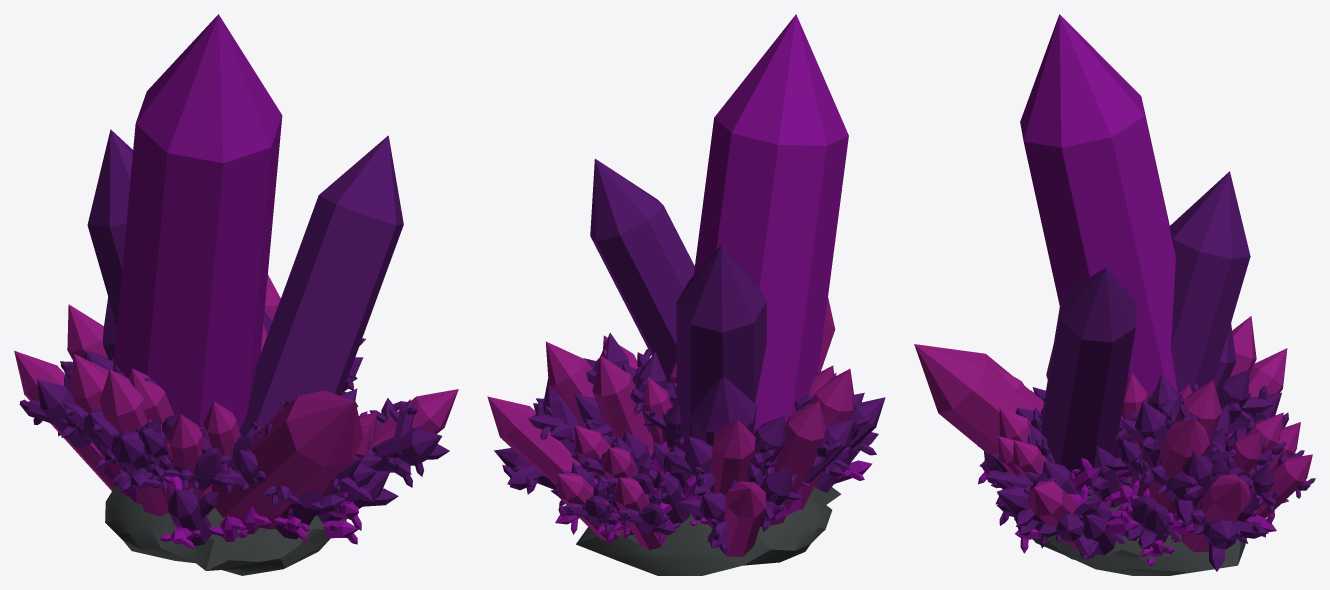
The model's file is Crystal4.fbx.
3 renders of one model, left to right at view 1: azimuth 30°, elevation 25°; view 2: azimuth 150°, elevation 25°; view 3: azimuth 270°, elevation 25°, orthographic. The views are drawn at different scales.
Parts seen in each view (by area): view 1: Cylinder.039, Cylinder.041, Cylinder.038, rock.009, rock.009|Cylinder.025|Dupli|53, rock.009|Cylinder.025|Dupli|45, Cylinder.037, rock.009|Cylinder.025|Dupli|18, rock.009|Cylinder.031|Dupli|39, rock.009|Cylinder.025|Dupli|52, rock.009|Cylinder.021|Dupli|19, rock.009|Cylinder.025|Dupli|38 (+12 smaller); view 2: Cylinder.039, Cylinder.041, Cylinder.037, rock.009, rock.009|Cylinder.025|Dupli|47, rock.009|Cylinder.025|Dupli|18, rock.009|Cylinder.025|Dupli|4, rock.009|Cylinder.025|Dupli|46, rock.009|Cylinder.025|Dupli|52, rock.009|Cylinder.025|Dupli|31, rock.009|Cylinder.025|Dupli|53, rock.009|Cylinder.031|Dupli|58 (+10 smaller); view 3: Cylinder.039, Cylinder.041, Cylinder.037, Cylinder.038, rock.009|Cylinder.025|Dupli|47, rock.009|Cylinder.025|Dupli|31, rock.009|Cylinder.025|Dupli|45, rock.009, rock.009|Cylinder.025|Dupli|4, rock.009|Cylinder.025|Dupli|46, rock.009|Cylinder.031|Dupli|9, rock.009|Cylinder.025|Dupli|18 (+17 smaller).
Boxes of the visible parts, left/top/right/bottom form: Cylinder.039: left=103, top=14, right=282, bottom=503; Cylinder.041: left=239, top=135, right=403, bottom=436; Cylinder.038: left=211, top=390, right=363, bottom=525; rock.009: left=105, top=485, right=346, bottom=575; rock.009|Cylinder.025|Dupli|53: left=91, top=369, right=168, bottom=516; rock.009|Cylinder.025|Dupli|45: left=369, top=389, right=458, bottom=487; Cylinder.037: left=87, top=129, right=132, bottom=325; rock.009|Cylinder.025|Dupli|18: left=14, top=350, right=115, bottom=490; rock.009|Cylinder.031|Dupli|39: left=148, top=414, right=234, bottom=515; rock.009|Cylinder.025|Dupli|52: left=62, top=354, right=127, bottom=496; rock.009|Cylinder.021|Dupli|19: left=158, top=476, right=219, bottom=548; rock.009|Cylinder.025|Dupli|38: left=117, top=368, right=204, bottom=479; Cylinder.039: left=675, top=14, right=848, bottom=519; Cylinder.041: left=590, top=158, right=694, bottom=384; Cylinder.037: left=676, top=245, right=766, bottom=440; rock.009: left=576, top=486, right=841, bottom=575; rock.009|Cylinder.025|Dupli|47: left=487, top=378, right=593, bottom=494; rock.009|Cylinder.025|Dupli|18: left=679, top=462, right=801, bottom=556; rock.009|Cylinder.025|Dupli|4: left=663, top=415, right=785, bottom=528; rock.009|Cylinder.025|Dupli|46: left=574, top=352, right=676, bottom=472; rock.009|Cylinder.025|Dupli|52: left=762, top=401, right=854, bottom=525; rock.009|Cylinder.025|Dupli|31: left=536, top=332, right=644, bottom=442; rock.009|Cylinder.025|Dupli|53: left=800, top=369, right=885, bottom=509; rock.009|Cylinder.031|Dupli|58: left=604, top=473, right=681, bottom=550; Cylinder.039: left=1020, top=14, right=1177, bottom=457; Cylinder.041: left=1041, top=268, right=1137, bottom=476; Cylinder.037: left=1169, top=171, right=1250, bottom=391; Cylinder.038: left=914, top=344, right=1043, bottom=454; rock.009|Cylinder.025|Dupli|47: left=1179, top=451, right=1268, bottom=571; rock.009|Cylinder.025|Dupli|31: left=1114, top=401, right=1219, bottom=523; rock.009|Cylinder.025|Dupli|45: left=997, top=472, right=1100, bottom=556; rock.009: left=1014, top=477, right=1246, bottom=575; rock.009|Cylinder.025|Dupli|4: left=1218, top=316, right=1273, bottom=423; rock.009|Cylinder.025|Dupli|46: left=1129, top=374, right=1236, bottom=466; rock.009|Cylinder.031|Dupli|9: left=1240, top=450, right=1315, bottom=518; rock.009|Cylinder.025|Dupli|18: left=1230, top=348, right=1288, bottom=432.
Size of the model in its own units: 432 by 680 by 488.
